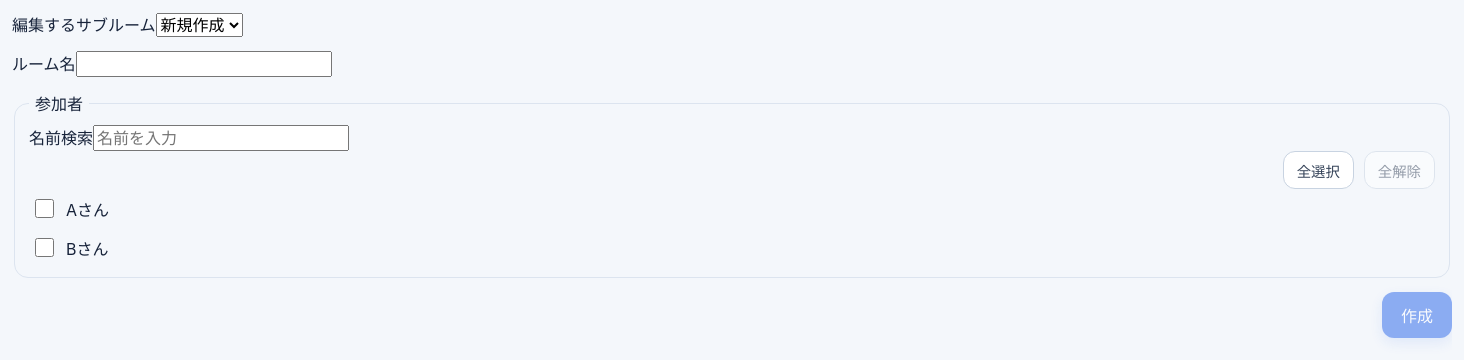
Test: room member search › filters candidates by display name
Step 1. Type "B" into the search field with id "chat-room-member-search" → [221, 138], box [93,125,349,151]
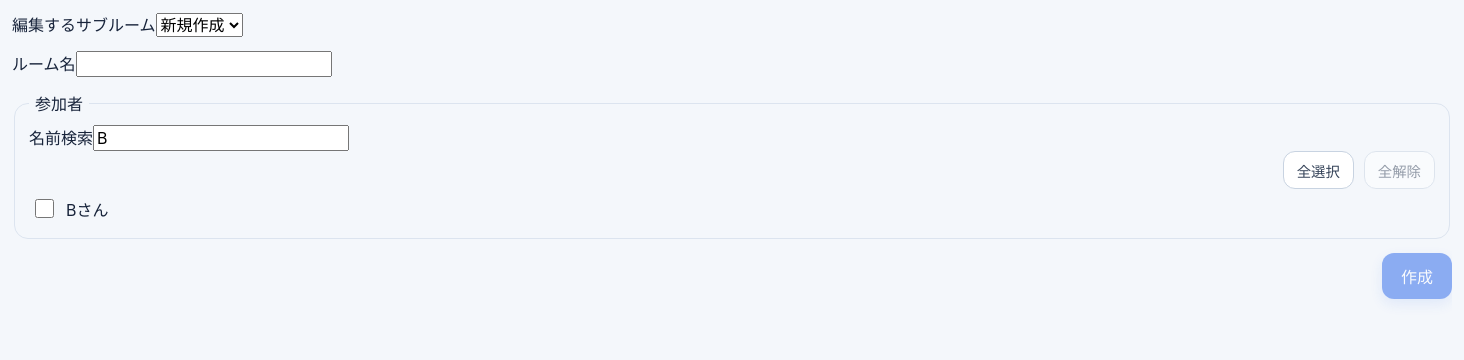
Check: the text "Bさん" is shown, box [66,196,108,220]
Check: the number of labels with class "check-row" is 1, box [35,199,108,220]
Check: the text "Aさん" is gone
